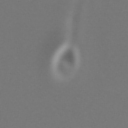normal: (58, 1, 94, 42)
